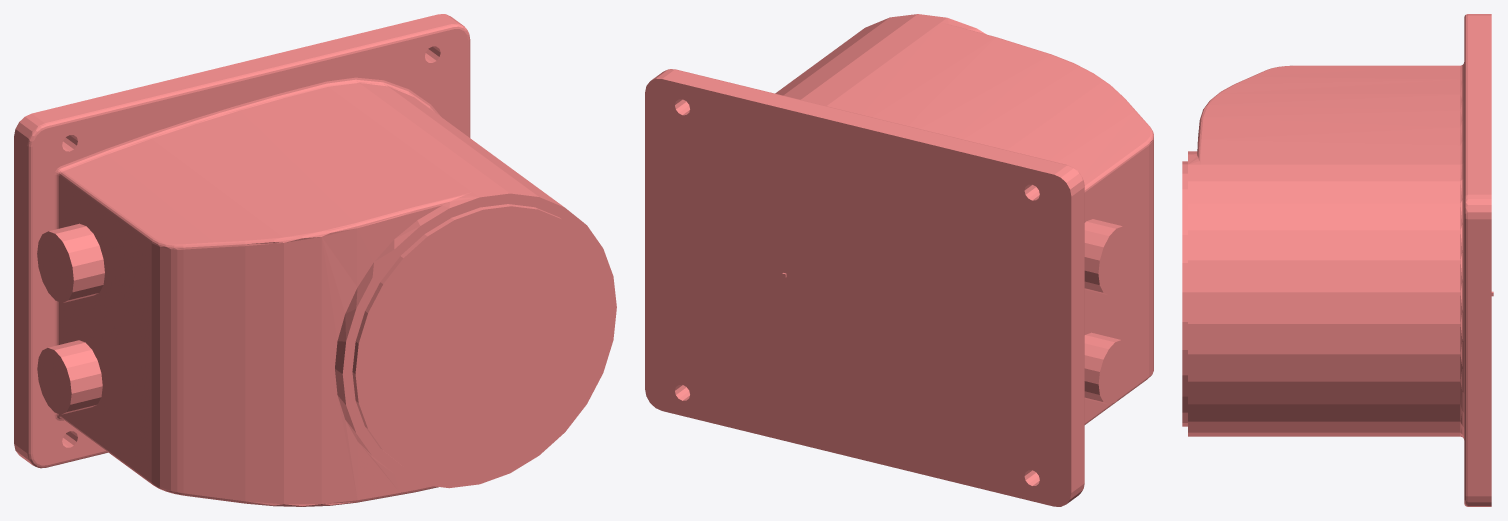
File: body2_0.obj
3 renders of one model, left to right at view 1: azimuth 30°, elevation 25°; view 2: azimuth 150°, elevation 25°; view 3: azimuth 270°, elevation 25°, orthographic. The views are drawn at different scales.
Parts seen in each view (by area): view 1: Body0.005; view 2: Body0.005; view 3: Body0.005.
Boxes of the visible parts, bbox=[...] form: Body0.005: bbox=[14, 14, 616, 506]; Body0.005: bbox=[645, 14, 1153, 506]; Body0.005: bbox=[1182, 14, 1493, 506].
Bounding box in the file's own units: 251 × 186 × 169.
